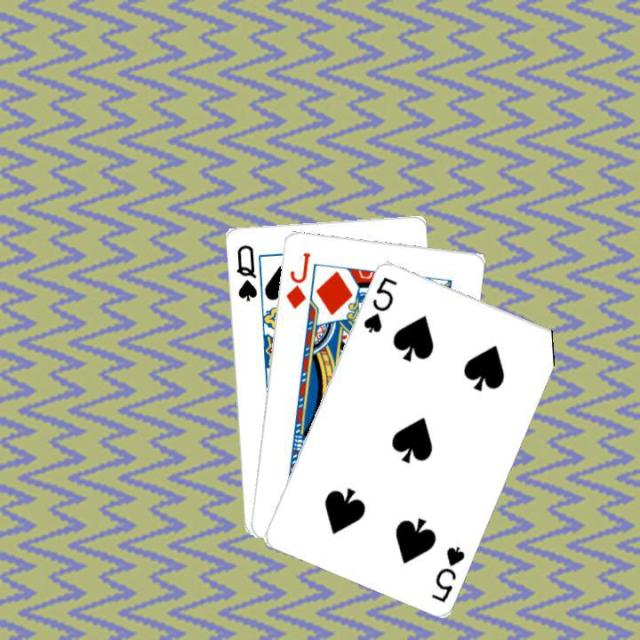5S: (359, 272, 398, 334), (428, 542, 467, 604)
JD: (281, 248, 312, 310)
QS: (231, 240, 258, 303)
